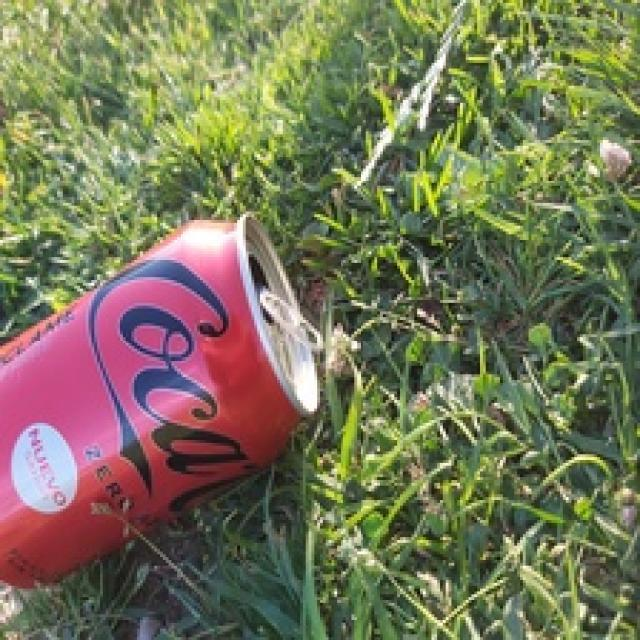recyclable: (0, 214, 325, 595)
